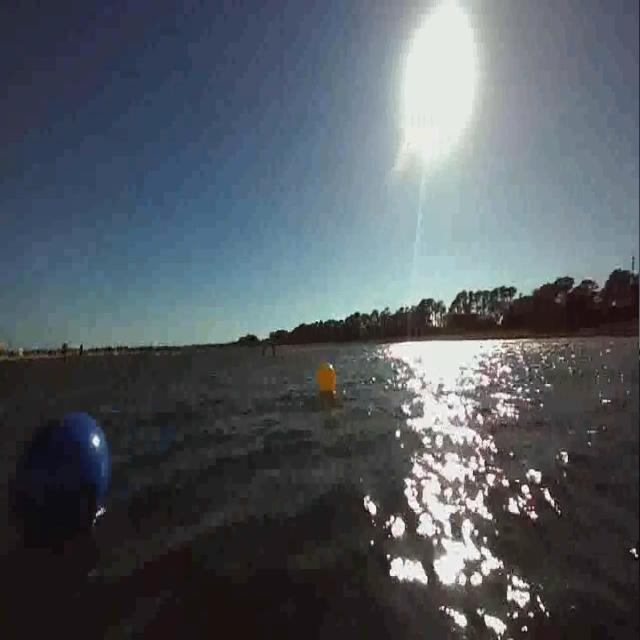yellow-buoy: (318, 359, 339, 393)
